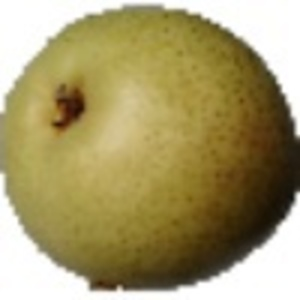pera: (1, 2, 300, 295)
